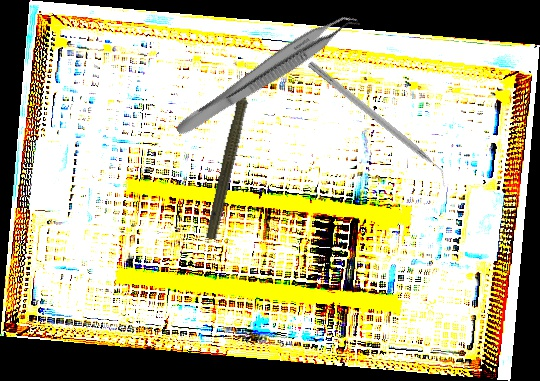Chopper: (301, 60, 454, 189)
Handpiece: (202, 69, 262, 242)
Tissue Forceps: (172, 3, 363, 148)
